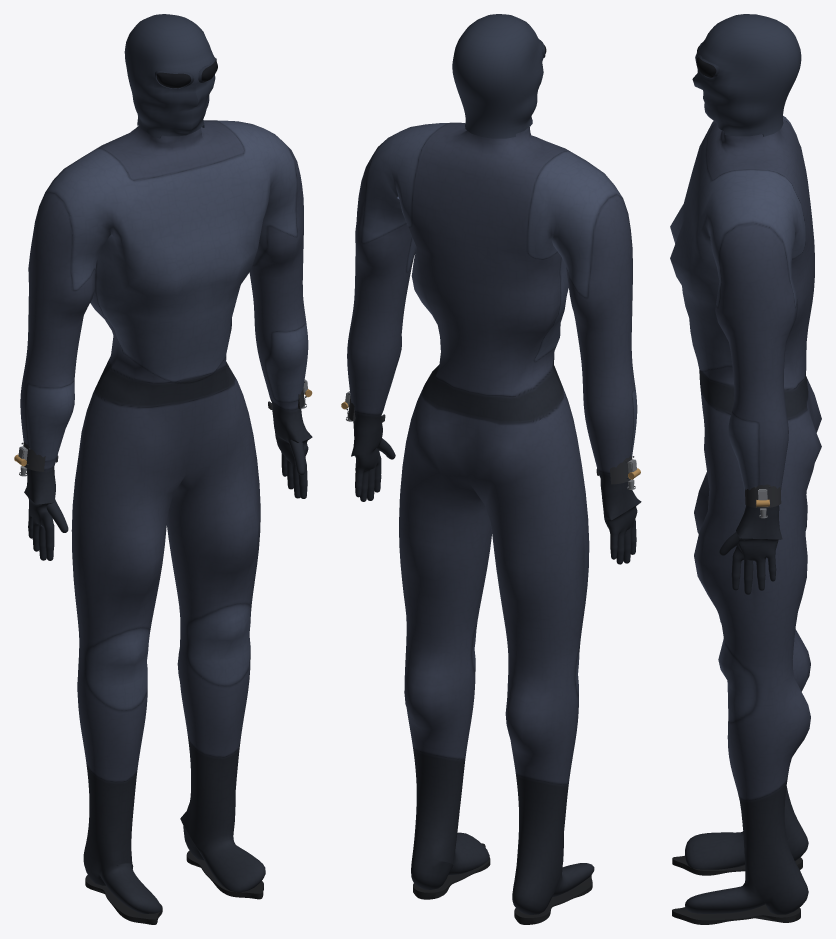
Rendered from suit.mobile.glb.
3 renders of one model, left to right at view 1: azimuth 30°, elevation 25°; view 2: azimuth 150°, elevation 25°; view 3: azimuth 270°, elevation 25°, orthographic.
Parts seen in each view (by area): view 1: SuitBody, SuitMask, SuitSoleR, SuitSoleL; view 2: SuitBody, SuitMask, SuitSoleR, SuitSoleL; view 3: SuitBody, SuitMask, SuitSoleL, wristHousingL, SuitSoleR.
Boxes of the visible parts, box(x1,y1,x2,y2) form: SuitBody: box(20, 120, 312, 913); SuitMask: box(124, 14, 215, 138); SuitSoleR: box(85, 875, 162, 924); SuitSoleL: box(186, 850, 263, 899); SuitBody: box(347, 122, 641, 914); SuitMask: box(452, 14, 543, 138); SuitSoleR: box(514, 875, 592, 924); SuitSoleL: box(413, 843, 490, 899); SuitBody: box(670, 116, 821, 914); SuitMask: box(692, 14, 801, 136); SuitSoleL: box(672, 904, 800, 924); wristHousingL: box(745, 484, 781, 508); SuitSoleR: box(672, 855, 802, 875).
Bounding box in the file's own units: 0.6046 × 1.72 × 0.2708.
8 materials, 2 textured.
